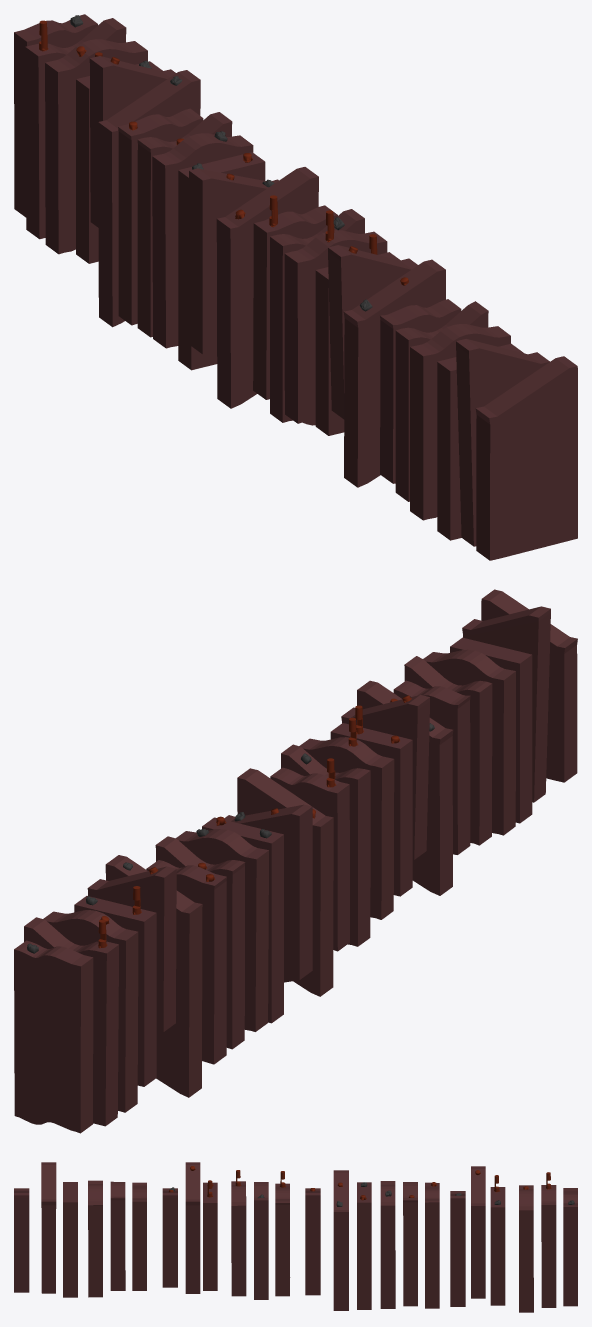
Rendered from Road22.fbx.
3 renders of one model, top to bottom at view 1: azimuth 30°, elevation 25°; view 2: azimuth 150°, elevation 25°; view 3: azimuth 270°, elevation 25°, orthographic. The views are drawn at different scales.
Parts seen in each view (by area): view 1: Piece24, Piece12, Piece18, Piece3, Piece9, Piece15, Piece6, Piece11, Piece23, Piece21, Piece7, Piece17 (+12 smaller); view 2: Piece1, Piece6, Piece9, Piece12, Piece2, Piece11, Piece15, Piece21, Piece7, Piece18, Piece3, Piece24 (+12 smaller); view 3: Piece11, Piece17, Piece9, Piece23, Piece2, Piece5, Piece4, Piece3, Piece10, Piece7, Piece15, Piece8 (+12 smaller).
Part boxes in pixels (<box>): Piece24: <box>475,356,577,560</box>; Piece12: <box>216,167,318,408</box>; Piece18: <box>343,259,445,487</box>; Piece3: <box>45,39,147,254</box>; Piece9: <box>152,131,253,348</box>; Piece15: <box>284,210,387,423</box>; Piece6: <box>98,70,200,327</box>; Piece11: <box>189,168,278,356</box>; Piece23: <box>456,339,549,546</box>; Piece21: <box>410,324,510,520</box>; Piece7: <box>118,108,203,325</box>; Piece17: <box>328,245,417,419</box>; Piece1: <box>14,940,93,1133</box>; Piece6: <box>105,855,202,1097</box>; Piece9: <box>176,829,268,1031</box>; Piece12: <box>237,768,333,996</box>; Piece2: <box>24,917,118,1126</box>; Piece11: <box>224,804,312,982</box>; Piece15: <box>299,717,394,919</box>; Piece21: <box>423,649,515,835</box>; Piece7: <box>146,860,226,1064</box>; Piece18: <box>357,680,453,895</box>; Piece3: <box>43,910,138,1112</box>; Piece24: <box>481,589,577,782</box>; Piece11: <box>333,1170,348,1310</box>; Piece17: <box>185,1162,200,1293</box>; Piece9: <box>380,1181,395,1308</box>; Piece23: <box>41,1162,56,1293</box>; Piece2: <box>541,1172,556,1307</box>; Piece5: <box>471,1166,485,1298</box>; Piece4: <box>490,1175,505,1305</box>; Piece3: <box>519,1185,533,1312</box>; Piece10: <box>357,1182,371,1309</box>; Piece7: <box>425,1182,439,1308</box>; Piece15: <box>231,1170,246,1296</box>; Piece8: <box>403,1182,417,1306</box>.
Bounding box in the file's own units: 39.9 × 85.4 × 315.
